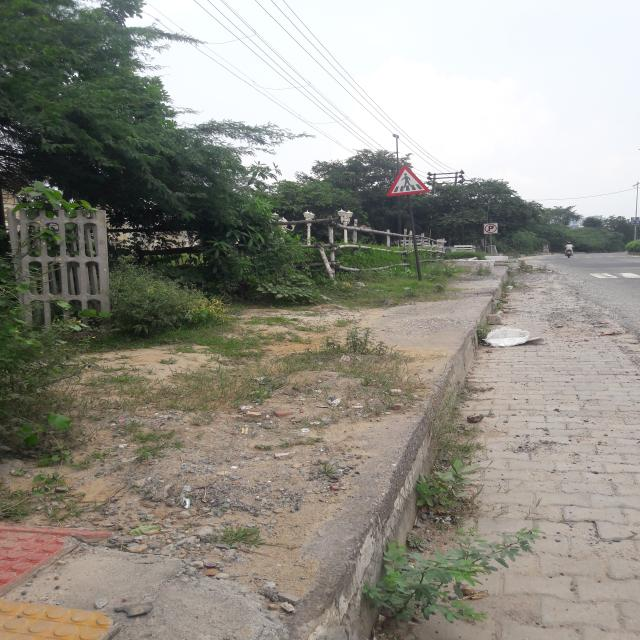NO_PARKING: (484, 223, 498, 234)
PEDESTRIAN_CROSSING: (386, 165, 430, 197)
